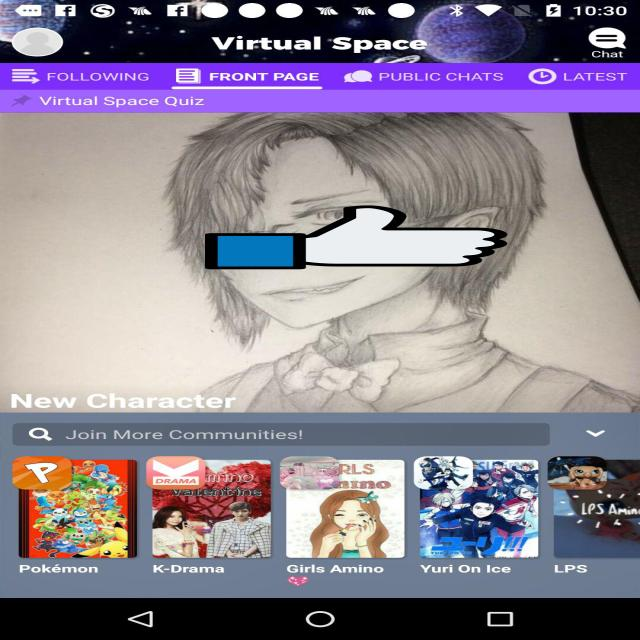privacy zuckering: (205, 204, 507, 271)
